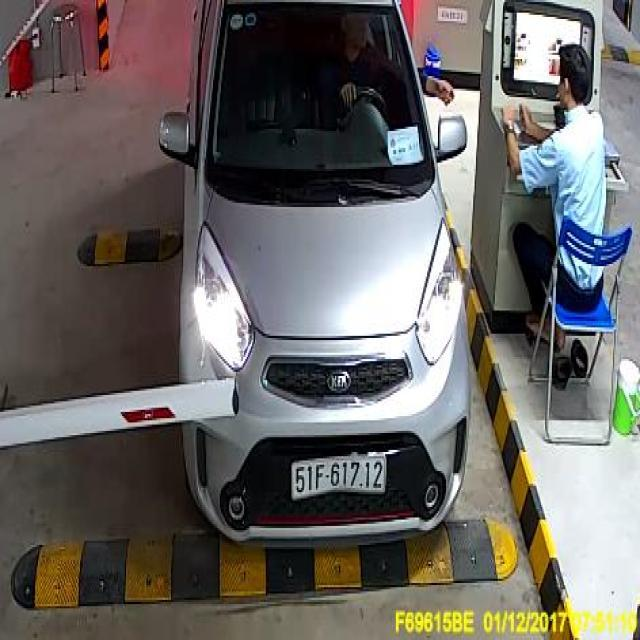bien_so_oto: (293, 453, 387, 496)
